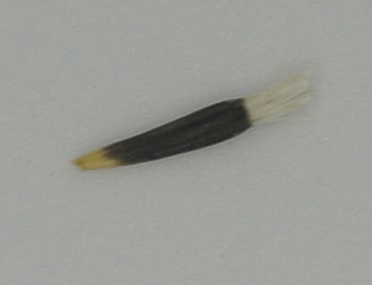เมล็ดดีติดกัน: (72, 65, 312, 174)
